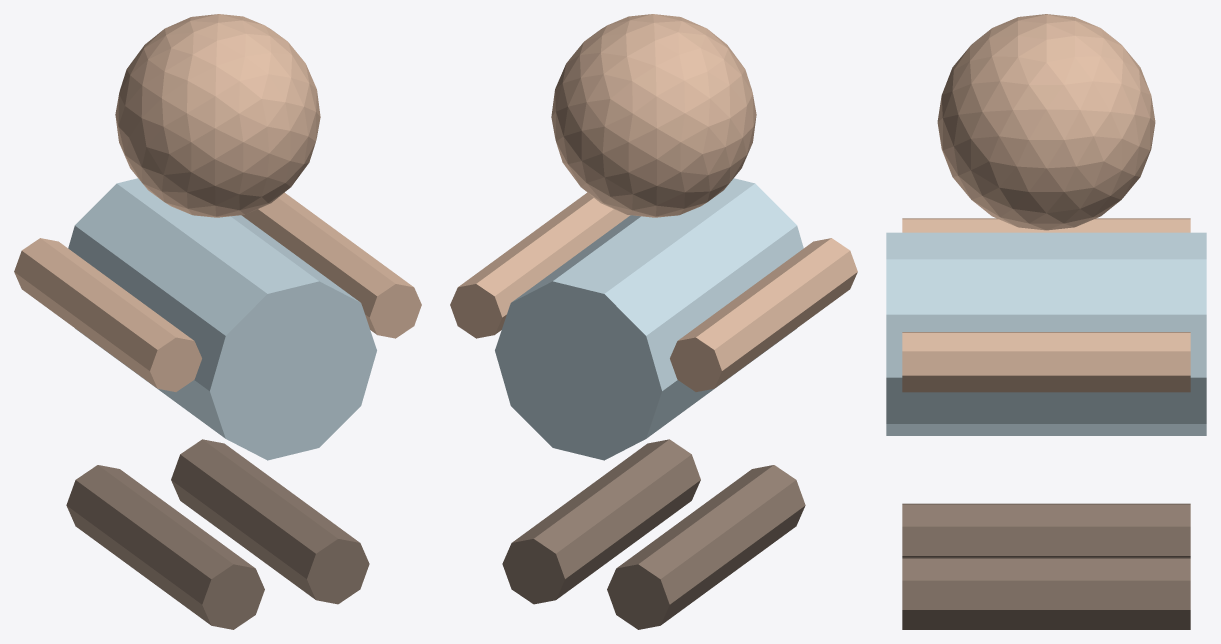
File: sim_avatar_reference.glb
The picture shows the model from 3 angles, left to right: view 1: azimuth 30°, elevation 25°; view 2: azimuth 150°, elevation 25°; view 3: azimuth 270°, elevation 25°; orthographic projection. The views are drawn at different scales.
Visible parts, largest first — view 1: part_00, part_01, part_02, part_03, part_04, part_05; view 2: part_00, part_01, part_02, part_03, part_04, part_05; view 3: part_00, part_01, part_03, part_05, part_02, part_04.
Boxes of the visible parts, x1=… form: part_00: x1=68, y1=178, x2=376, y2=460; part_01: x1=115, y1=14, x2=320, y2=217; part_02: x1=66, y1=465, x2=264, y2=629; part_03: x1=171, y1=439, x2=369, y2=604; part_04: x1=14, y1=238, x2=201, y2=391; part_05: x1=241, y1=192, x2=421, y2=338; part_00: x1=495, y1=178, x2=803, y2=460; part_01: x1=551, y1=14, x2=756, y2=217; part_02: x1=607, y1=465, x2=805, y2=629; part_03: x1=502, y1=439, x2=700, y2=604; part_04: x1=670, y1=238, x2=857, y2=391; part_05: x1=450, y1=192, x2=630, y2=338; part_00: x1=886, y1=232, x2=1206, y2=435; part_01: x1=937, y1=14, x2=1155, y2=230; part_03: x1=902, y1=557, x2=1190, y2=629; part_05: x1=902, y1=332, x2=1190, y2=392; part_02: x1=902, y1=503, x2=1190, y2=557; part_04: x1=902, y1=218, x2=1190, y2=232.
Size of the model in its own units: 1.04 by 1.99 by 1.
